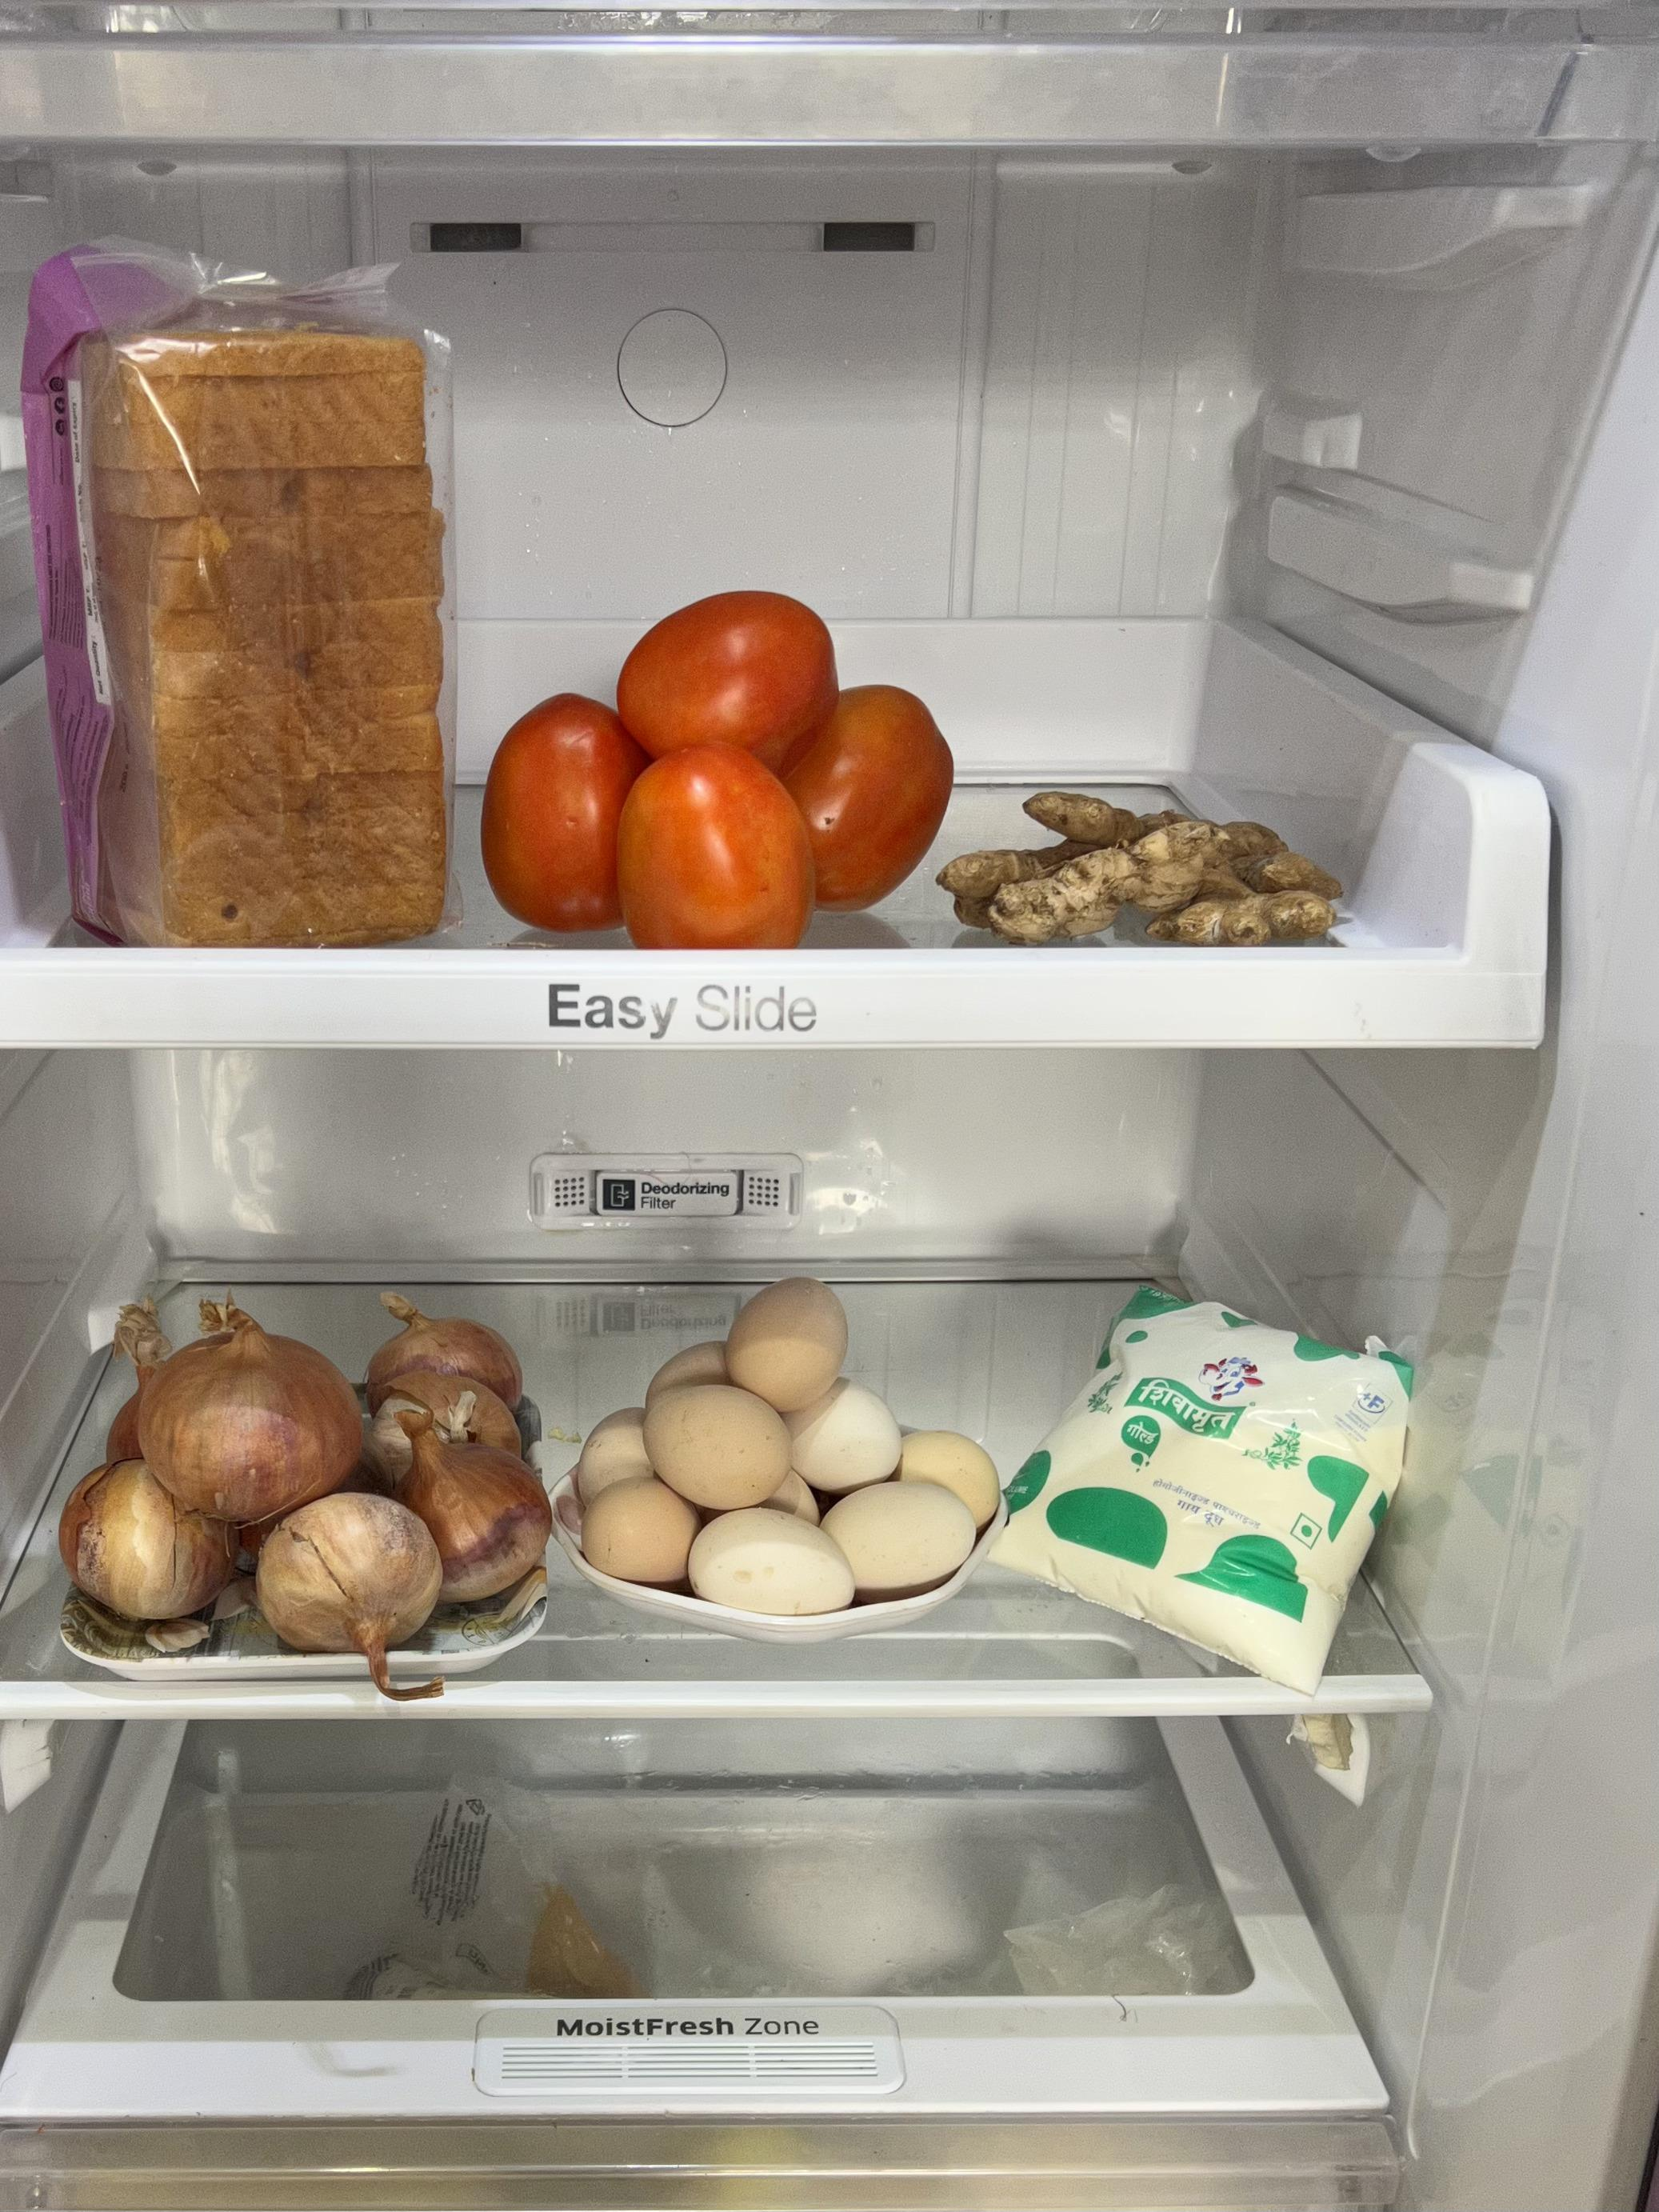bread: (19, 237, 467, 948)
egg: (577, 1276, 1002, 1614)
ginger: (936, 786, 1361, 950)
milk: (1018, 1283, 1419, 1682)
onion: (49, 1260, 551, 1652)
tomato: (479, 577, 955, 950)
